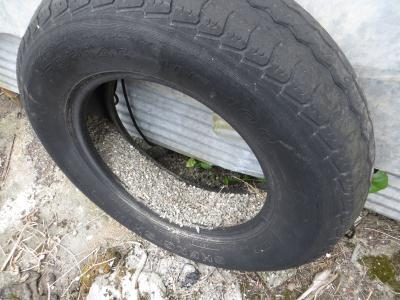tire: (14, 1, 378, 275)
